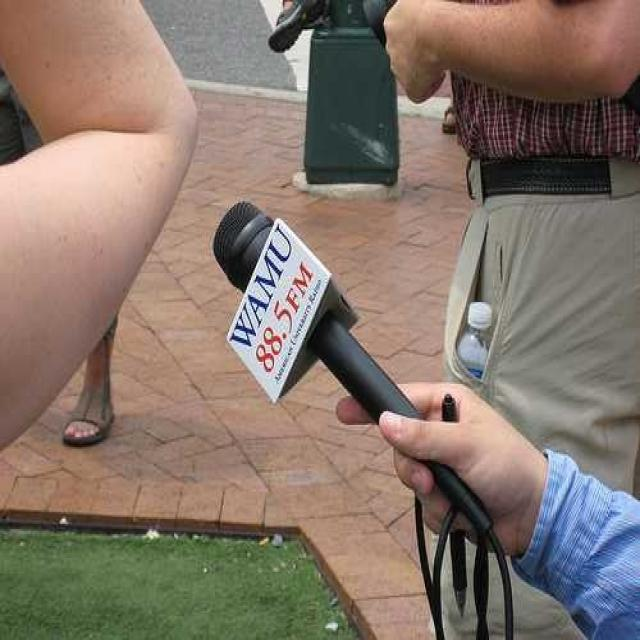microphone: (213, 203, 477, 531)
